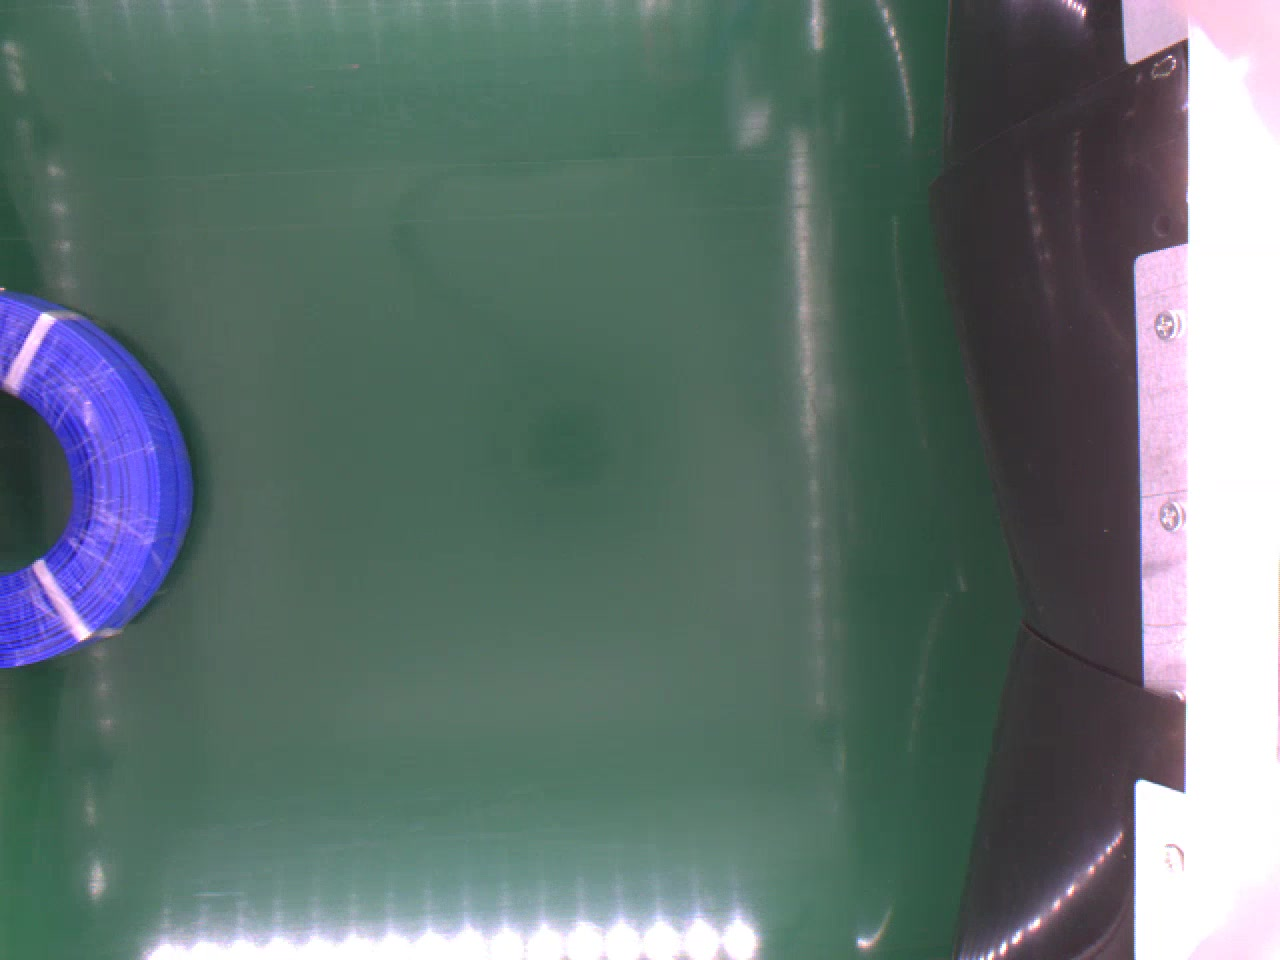blue: (0, 285, 195, 666)
